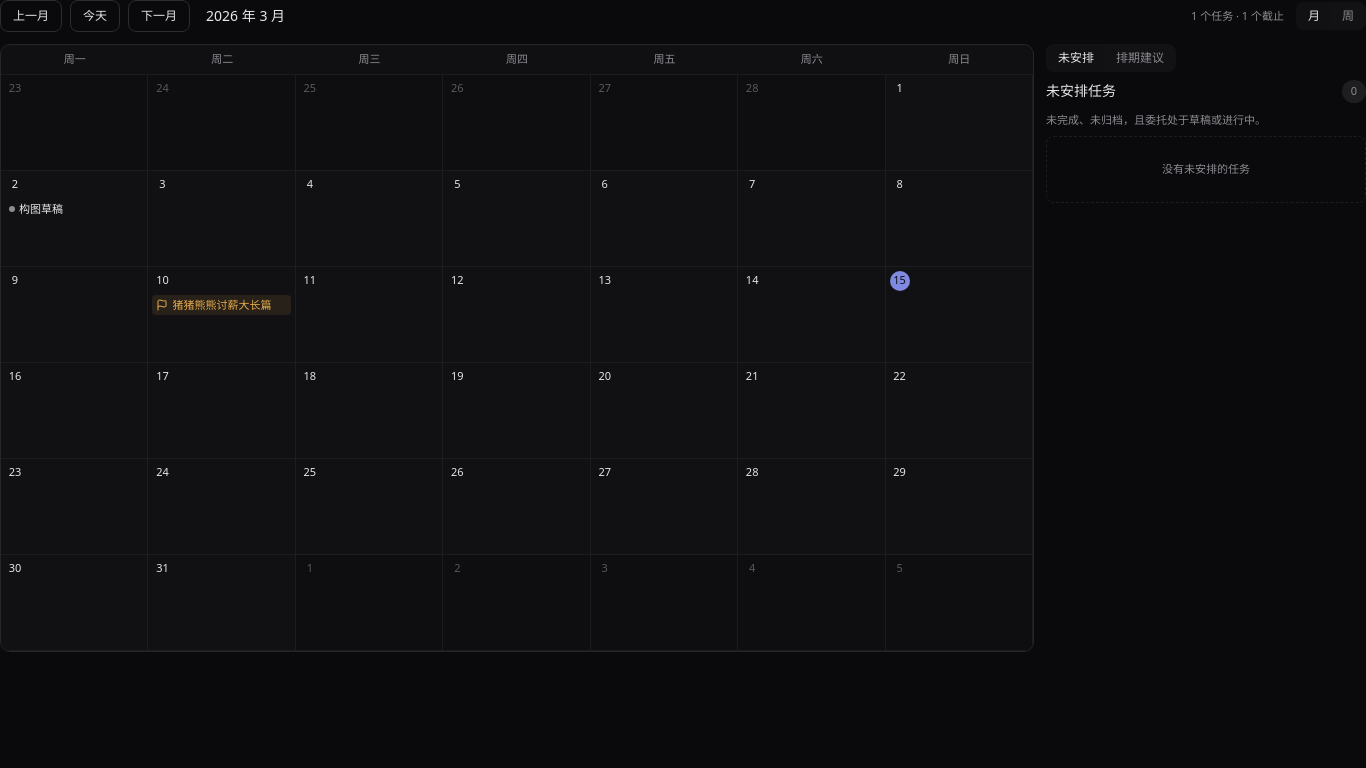
Test: 日历页：手动排期 › 查看委托会跳到委托详情
Click the button with test id "calendar-task": (74, 209) 5,198 -> 143,219
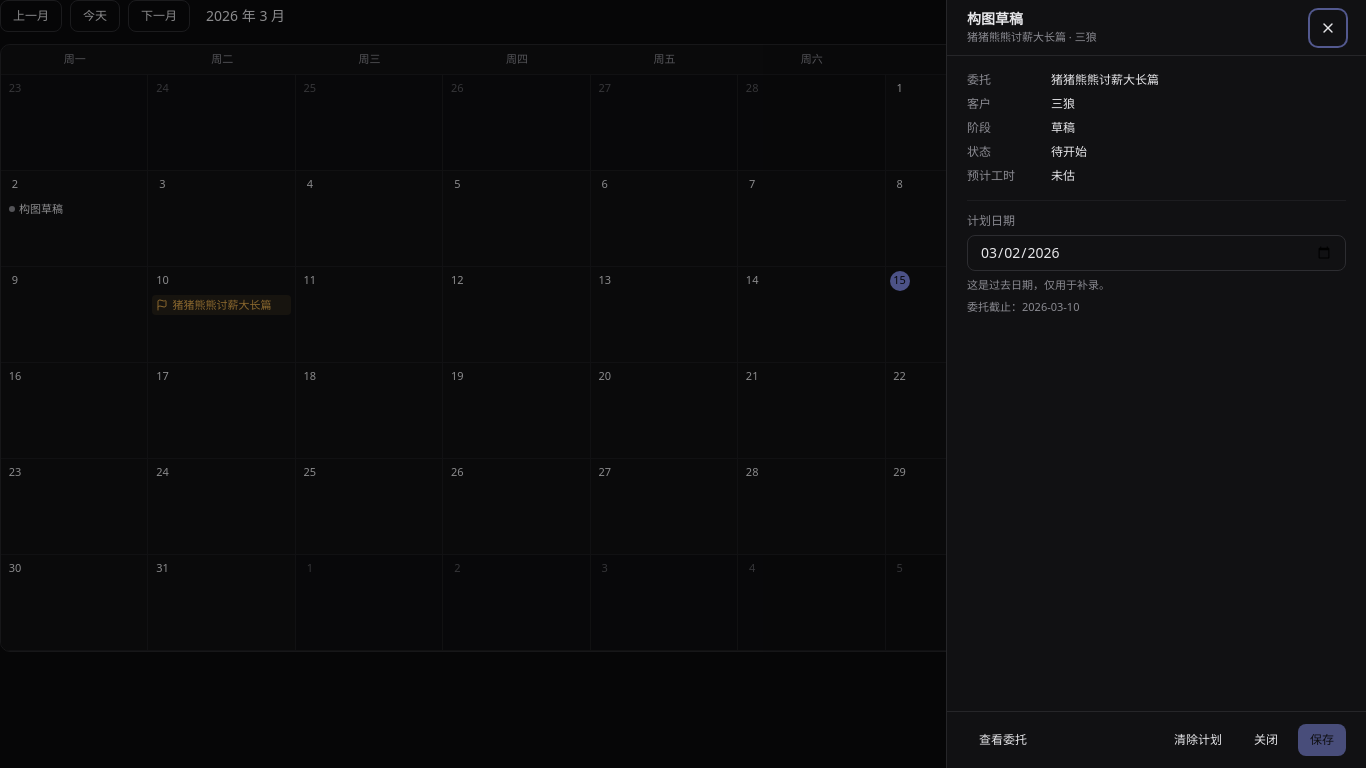
Click the button "查看委托": (1003, 740) 967,724 -> 1039,756
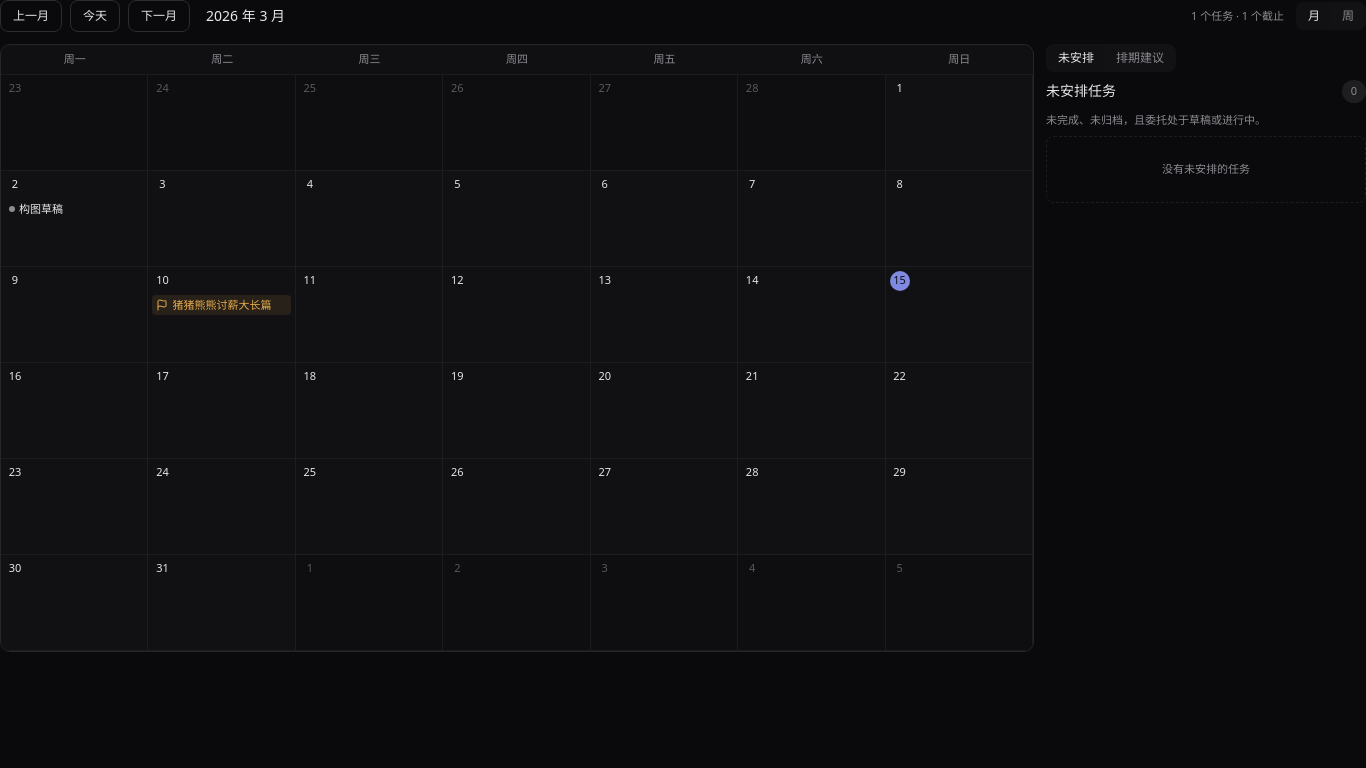
Check: the dialog with test id "sheet" is gone
